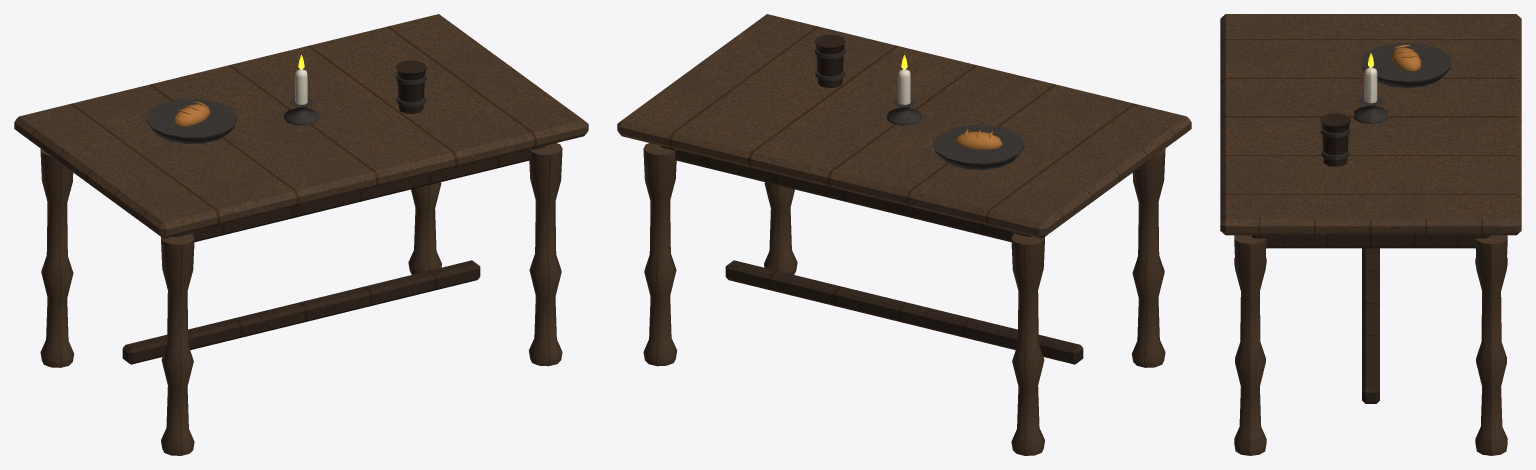
The model's file is table.glb.
The picture shows the model from 3 angles, left to right: view 1: azimuth 30°, elevation 25°; view 2: azimuth 150°, elevation 25°; view 3: azimuth 270°, elevation 25°; orthographic projection.
Visible parts, largest first — view 1: table; view 2: table; view 3: table.
Boxes of the visible parts, box(x1,y1,x2,y2) form: table: box(14, 14, 588, 455); table: box(617, 14, 1191, 455); table: box(1220, 14, 1521, 455).
Bounding box in the file's own units: 1.4 × 0.955 × 0.85.
Materials: 1 (1 with a texture image).
